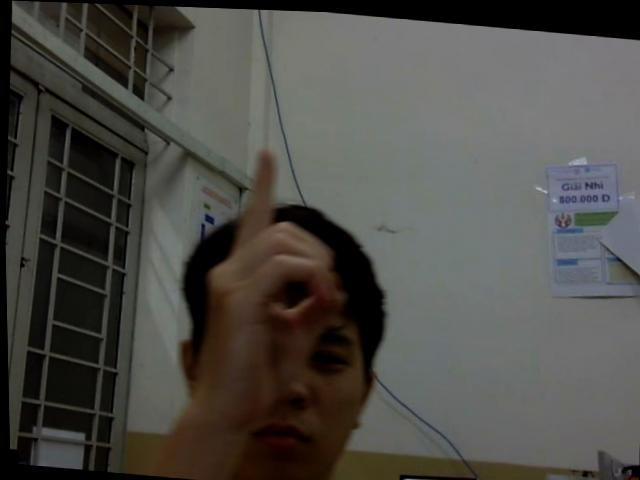D: (190, 142, 349, 417)
